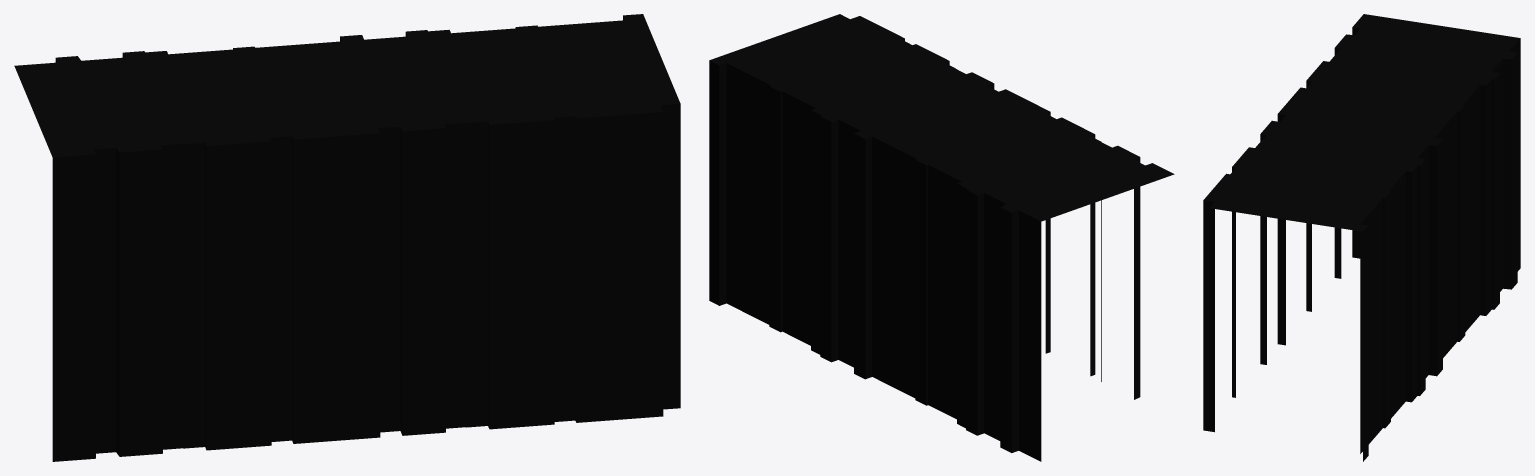
3 views of the same model, side by side, from view 1: azimuth 30°, elevation 25°; view 2: azimuth 150°, elevation 25°; view 3: azimuth 270°, elevation 25° (orthographic). The views are drawn at different scales.
Visible parts, largest first — view 1: Joint_0_Object_0; view 2: Joint_0_Object_0; view 3: Joint_0_Object_0.
Part boxes in pixels (x1,y1,x2,y2): Joint_0_Object_0: (14, 14, 680, 461); Joint_0_Object_0: (709, 14, 1174, 461); Joint_0_Object_0: (1203, 14, 1520, 461).
Size of the model in its own units: 710 by 350 by 437.
1 material, 1 textured.
